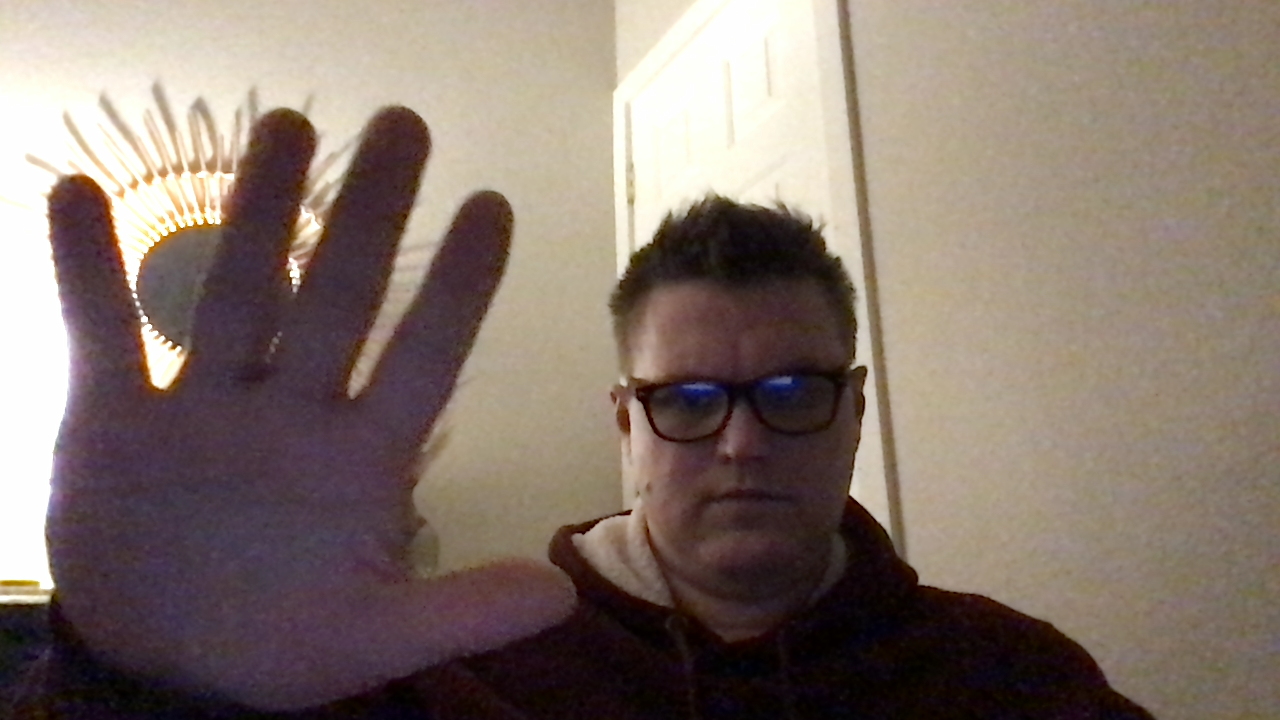hello: (41, 102, 585, 696)
